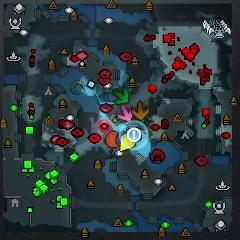Other: (127, 127, 141, 143)
p1: (115, 132, 127, 148)
p4: (120, 133, 136, 151)
p5: (105, 130, 120, 149)
x1: (116, 103, 133, 122)
x4: (114, 87, 131, 105)
x5: (133, 101, 150, 120)
